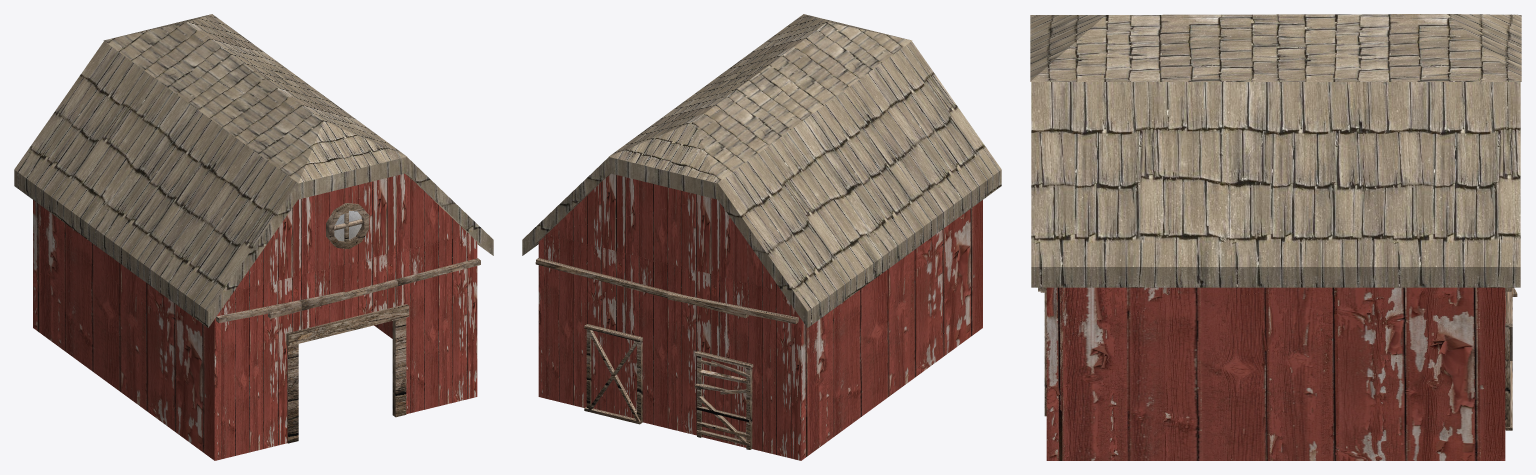
Rendered from Barn5.FBX.
3 views of the same model, side by side, from view 1: azimuth 30°, elevation 25°; view 2: azimuth 150°, elevation 25°; view 3: azimuth 270°, elevation 25° (orthographic). The views are drawn at different scales.
Parts seen in each view (by area): view 1: Box001, Box003, Box005, Box002, Box008, Box009, Box007, Box006, Tube001, Box010; view 2: Box001, Box003, Box005, Box002, Box011, Box012, Box035, Box034, Box031, Box014; view 3: Box003, Box001, Box005, Box028.
Boxes of the visible parts, x1=… form: Box001: x1=33, y1=200, x2=477, y2=460; Box003: x1=14, y1=41, x2=493, y2=327; Box005: x1=103, y1=14, x2=406, y2=183; Box002: x1=234, y1=173, x2=468, y2=291; Box008: x1=286, y1=304, x2=409, y2=345; Box009: x1=268, y1=258, x2=480, y2=318; Box007: x1=392, y1=317, x2=406, y2=417; Box006: x1=287, y1=344, x2=298, y2=443; Tube001: x1=326, y1=203, x2=369, y2=248; Box010: x1=216, y1=291, x2=346, y2=322; Box001: x1=538, y1=200, x2=982, y2=460; Box003: x1=522, y1=41, x2=1001, y2=327; Box005: x1=609, y1=14, x2=912, y2=183; Box002: x1=547, y1=173, x2=781, y2=291; Box011: x1=591, y1=330, x2=636, y2=418; Box012: x1=702, y1=357, x2=746, y2=447; Box035: x1=535, y1=258, x2=748, y2=318; Box034: x1=667, y1=292, x2=798, y2=323; Box031: x1=586, y1=329, x2=640, y2=422; Box014: x1=746, y1=368, x2=752, y2=449; Box003: x1=1031, y1=82, x2=1520, y2=287; Box001: x1=1046, y1=287, x2=1505, y2=460; Box005: x1=1030, y1=14, x2=1521, y2=81; Box028: x1=1505, y1=323, x2=1509, y2=429.
Bounding box in the file's own units: 272 × 264 × 322.
4 materials, 4 textured.
